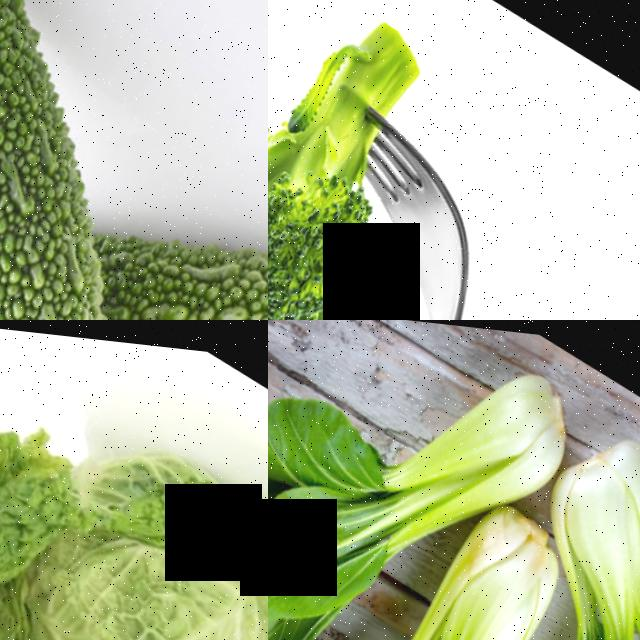bitter gourd: (0, 0, 199, 277), (117, 173, 268, 320)
bok choy: (268, 320, 558, 640), (292, 477, 576, 640), (511, 466, 640, 640)
broccoli: (268, 0, 451, 320)
cabbage: (0, 320, 268, 640)
